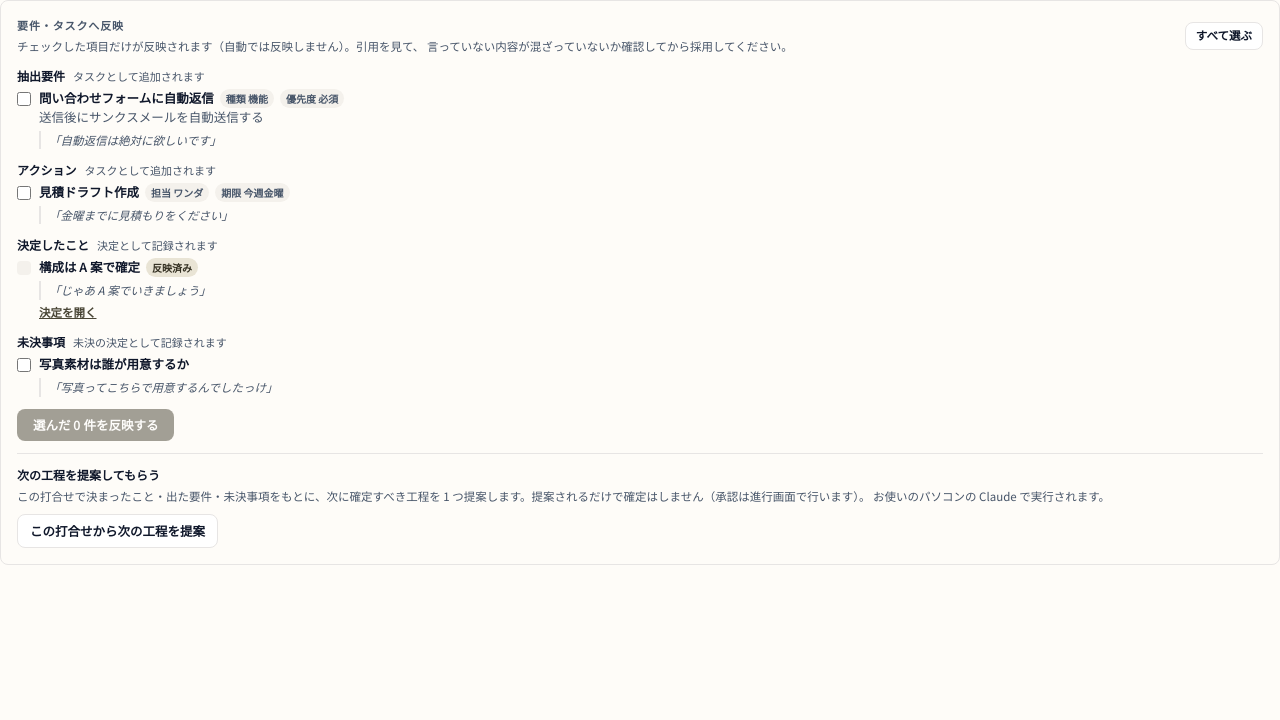
Scenario: GAP-187 議事録からのフェーズ提案 › 提案されたら理由と「まだ確定していない」を出す
Click the button "この打合せから次の工程を提案" at (118, 531), box [17,514,218,548]
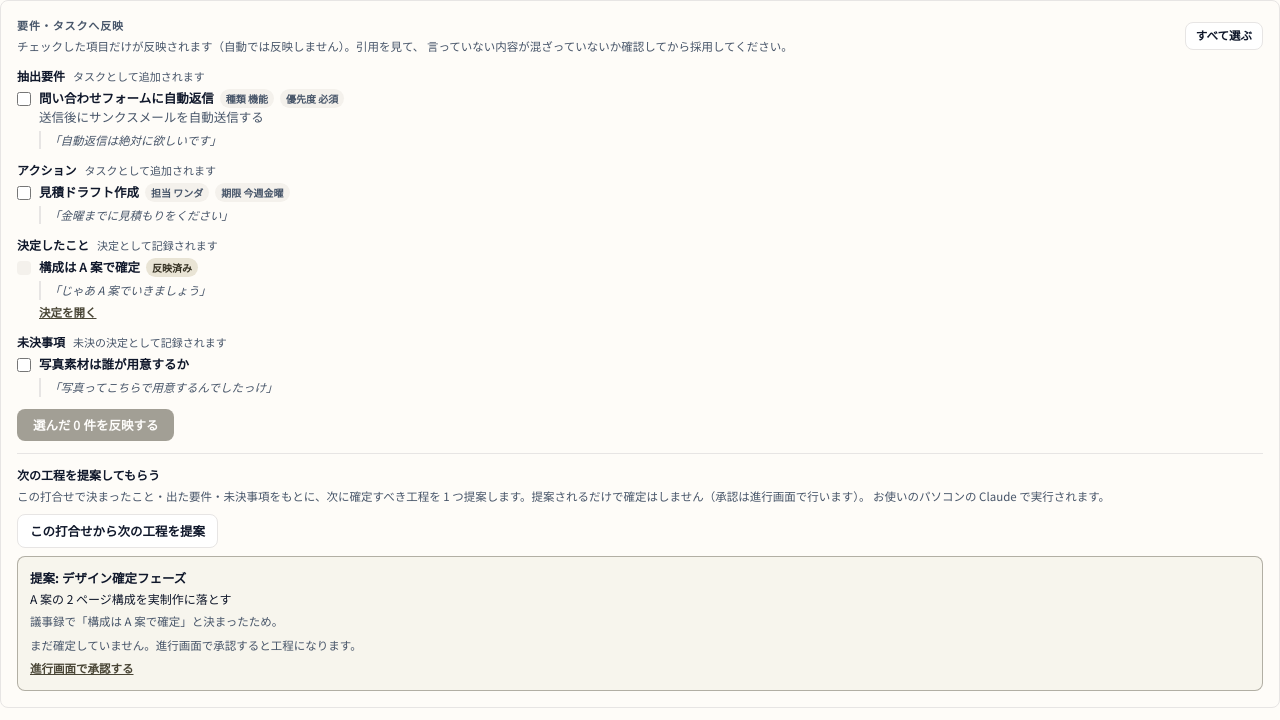
Expected: the text "提案: デザイン確定フェーズ" is shown, [30,568,186,587]
Expected: the text "議事録で「構成は A 案で確定」と決まったため。" is shown, [30,613,283,629]
Expected: the text "まだ確定していません。進行画面で承認すると工程になります。" is shown, [30,637,362,653]
